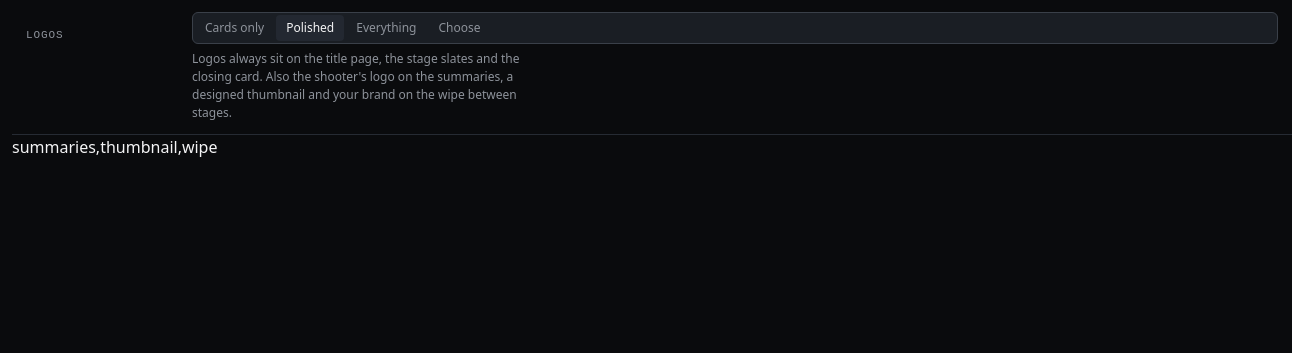
LogoPlanField › Choose keeps the spots and opens one checkbox per spot
Click the button "Choose": (460, 28) 428,15 -> 490,41
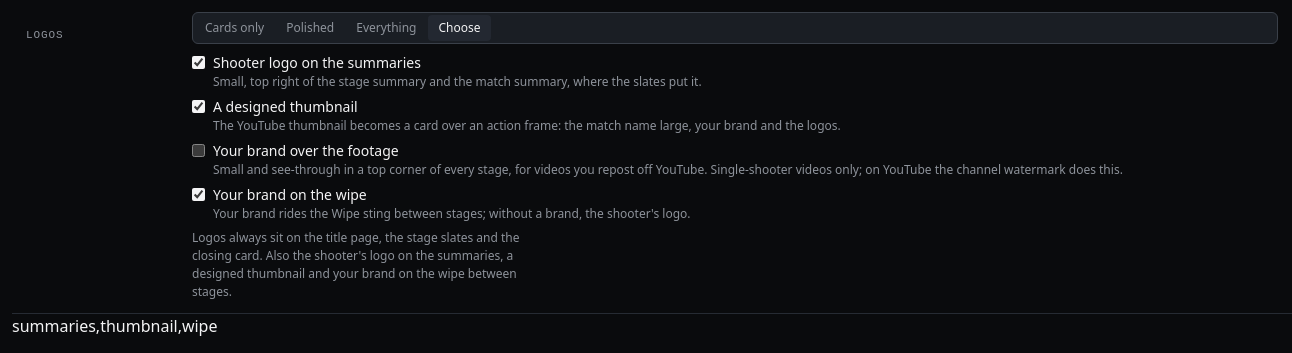
Click the checkbox labelled "Your brand on the wipe": (198, 195) 192,188 -> 205,201
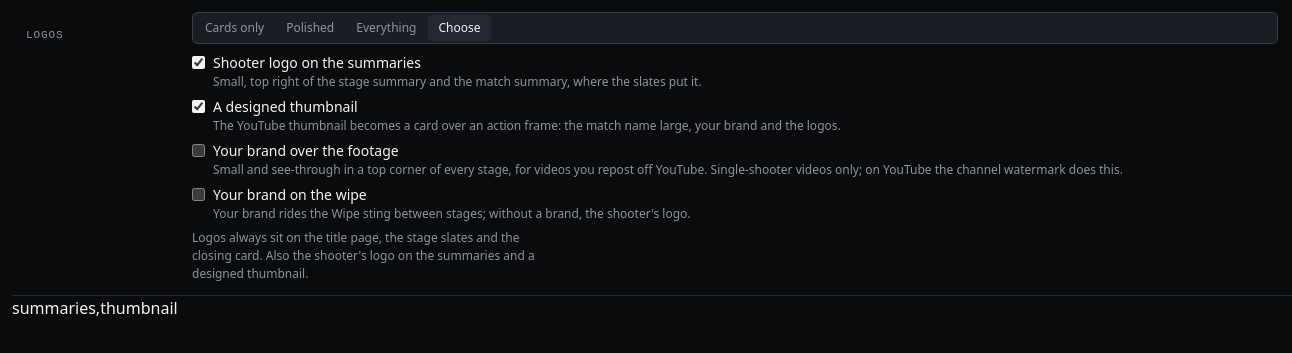
Result: the text with test id "spots" reads "summaries,thumbnail" at 12,297 -> 178,319
Note: Ticking it back to the Polished set keeps Choose open.
Click the checkbox labelled "Your brand on the wipe": (198, 195) 192,188 -> 205,201
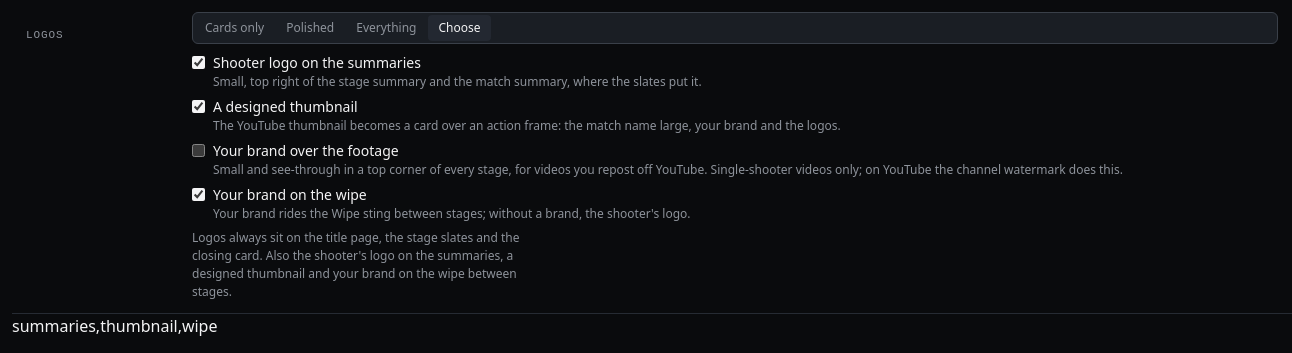
Result: the text with test id "spots" reads "summaries,thumbnail,wipe" at 12,315 -> 218,337
